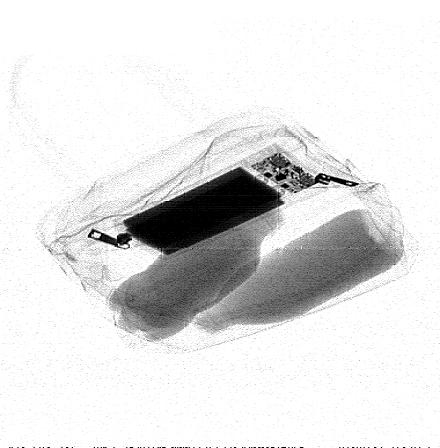Powerbank: (111, 143, 327, 261)
